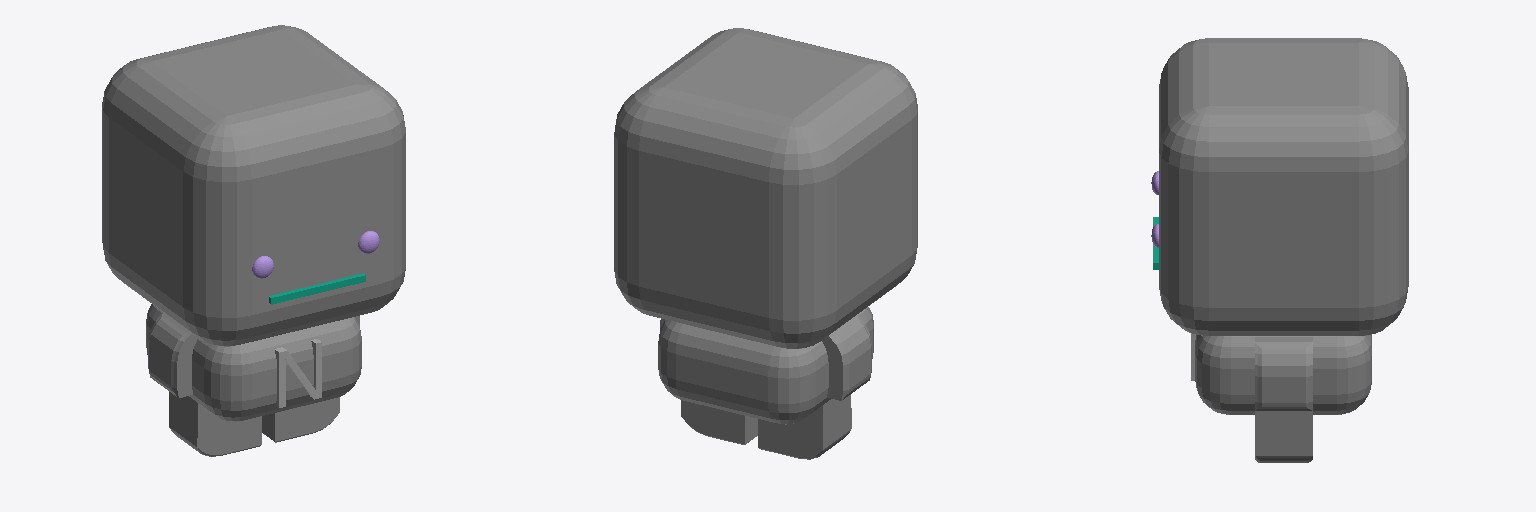
3 views of the same model, side by side, from view 1: azimuth 30°, elevation 25°; view 2: azimuth 150°, elevation 25°; view 3: azimuth 270°, elevation 25° (orthographic).
Parts seen in each view (by area): view 1: Head_1, Body, Cap_1, Box004; view 2: Head_1, Body; view 3: Head_1, Body.
Part boxes in pixels (left/top/right/bottom): Head_1: left=102, top=25, right=405, bottom=346; Body: left=146, top=304, right=361, bottom=456; Cap_1: left=279, top=342, right=321, bottom=407; Box004: left=269, top=273, right=365, bottom=304; Head_1: left=614, top=28, right=917, bottom=348; Body: left=658, top=307, right=873, bottom=459; Head_1: left=1159, top=38, right=1408, bottom=335; Body: left=1195, top=334, right=1371, bottom=462.
Bounding box in the file's own units: 20 × 32.14 × 20.6.